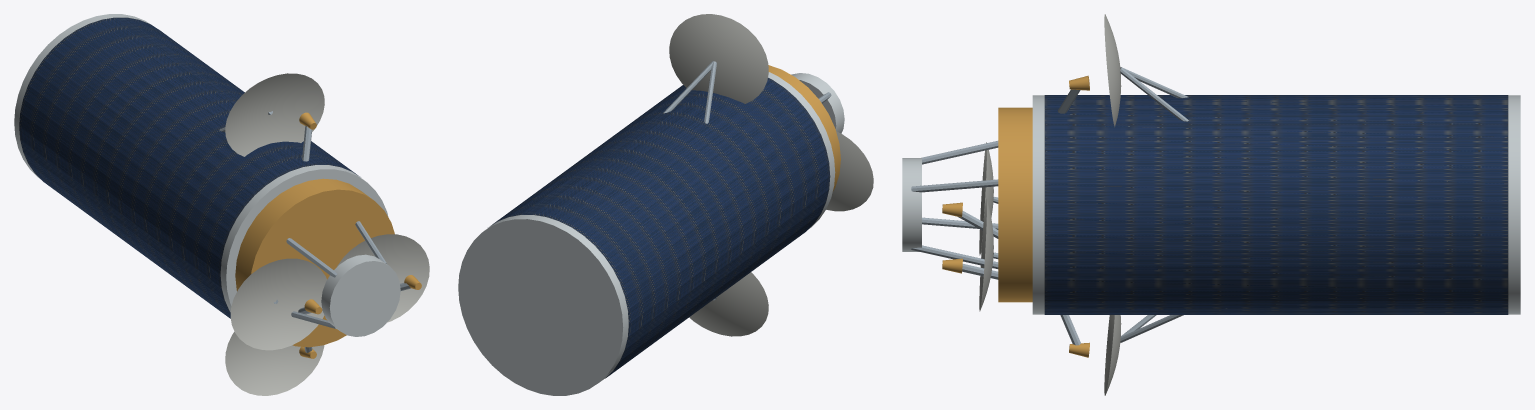
File: ref-hs-308-3691.glb
The picture shows the model from 3 angles, left to right: view 1: azimuth 30°, elevation 25°; view 2: azimuth 150°, elevation 25°; view 3: azimuth 270°, elevation 25°; orthographic projection. The views are drawn at different scales.
Visible parts, largest first — view 1: Body-mounted solar cells, Despun equipment deck, Communications reflector (×2), Deck-mounted reflector (×2), Antenna tower platform, Solar drum core, Antenna tower leg; view 2: Body-mounted solar cells, Solar drum core, Communications reflector (×2), Deck-mounted reflector, Despun equipment deck, Antenna tower platform, Shell hinge strut; view 3: Body-mounted solar cells, Despun equipment deck, Solar drum core, Communications reflector (×2), Antenna tower platform, Antenna tower leg (×3), Deck-mounted reflector (×2).
Part boxes in pixels (<box>): Body-mounted solar cells: <box>19,17,359,318</box>; Despun equipment deck: <box>235,178,394,347</box>; Communications reflector (×2): <box>225,73,324,395</box>; Deck-mounted reflector (×2): <box>230,234,429,350</box>; Antenna tower platform: <box>321,254,400,336</box>; Solar drum core: <box>14,14,388,345</box>; Antenna tower leg: <box>286,238,337,277</box>; Body-mounted solar cells: <box>491,77,830,378</box>; Solar drum core: <box>458,72,835,395</box>; Communications reflector (×2): <box>669,14,768,336</box>; Deck-mounted reflector: <box>826,131,873,211</box>; Despun equipment deck: <box>768,65,840,191</box>; Antenna tower platform: <box>791,73,844,133</box>; Shell hinge strut: <box>663,61,713,113</box>; Body-mounted solar cells: <box>1044,95,1508,314</box>; Despun equipment deck: <box>998,107,1032,302</box>; Solar drum core: <box>1032,95,1520,314</box>; Communications reflector (×2): <box>1104,14,1121,395</box>; Antenna tower platform: <box>902,158,921,251</box>; Antenna tower leg (×3): <box>911,141,998,268</box>; Deck-mounted reflector (×2): <box>979,142,993,311</box>.
Bounding box in the file's own units: 3.38 × 5.18 × 7.89.
Materials: 5 (1 with a texture image).
